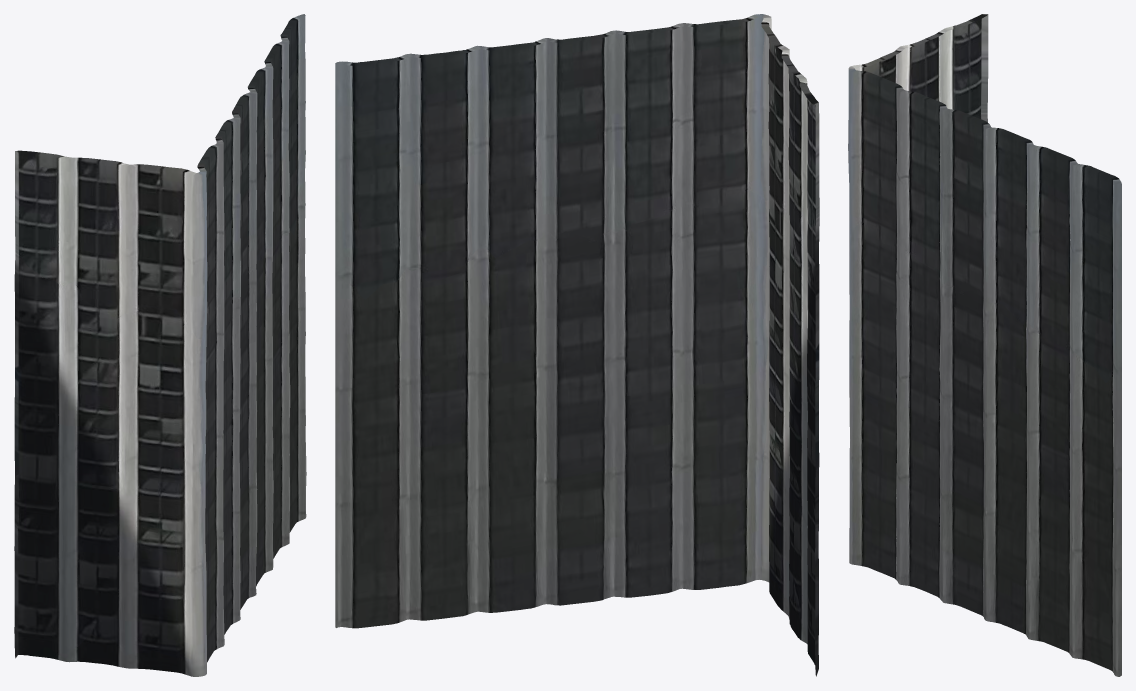
The model's file is z20-167780-405233-h1-yup-uvflip-v3-world.glb.
3 views of the same model, side by side, from view 1: azimuth 30°, elevation 25°; view 2: azimuth 150°, elevation 25°; view 3: azimuth 270°, elevation 25° (orthographic). The views are drawn at different scales.
Bounding box in the file's own units: 30.16 × 40.88 × 20.4.
1 material, 1 textured.
